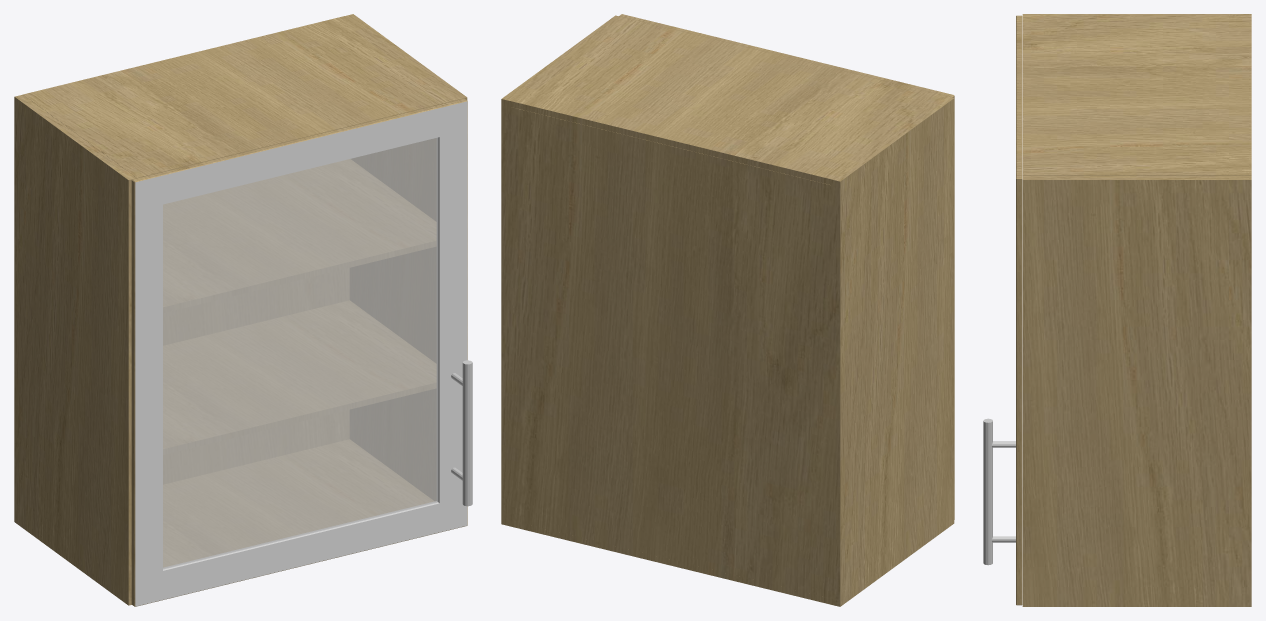
File: sweethome3d-blendswap-cc-0-glass-door-cabinet-144.glb
The picture shows the model from 3 angles, left to right: view 1: azimuth 30°, elevation 25°; view 2: azimuth 150°, elevation 25°; view 3: azimuth 270°, elevation 25°; orthographic projection.
Visible parts, largest first — view 1: Cube.007_Cube.008; view 2: Cube.007_Cube.008; view 3: Cube.007_Cube.008.
Boxes of the visible parts, x1,y1,x2,y2 form: Cube.007_Cube.008: (14, 14, 472, 606); Cube.007_Cube.008: (501, 14, 954, 606); Cube.007_Cube.008: (983, 14, 1251, 606).
Size of the model in its own units: 60 by 72 by 41.
Materials: 5 (2 with a texture image).
